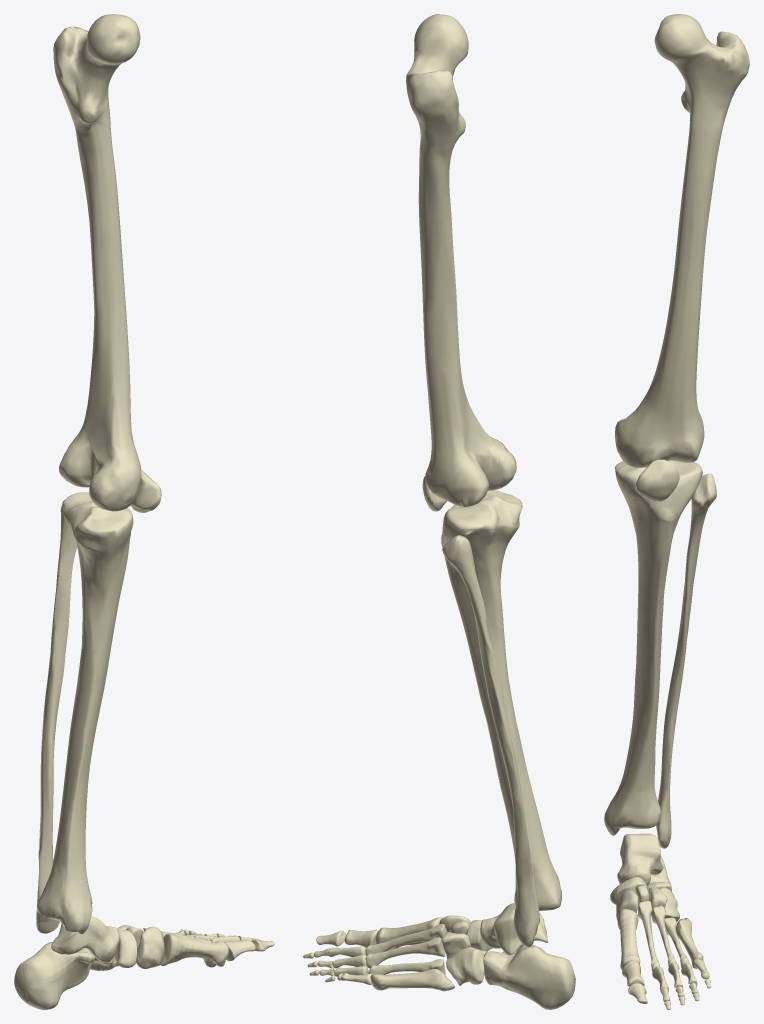
File: leg.glb
3 views of the same model, side by side, from view 1: azimuth 30°, elevation 25°; view 2: azimuth 150°, elevation 25°; view 3: azimuth 270°, elevation 25° (orthographic). The views are drawn at different scales.
Visible parts, largest first — view 1: 3DSMeshMatrix (×9); view 2: 3DSMeshMatrix (×11); view 3: 3DSMeshMatrix (×15).
Part boxes in pixels (x1,y1,x2,y2): 3DSMeshMatrix (×9): [14, 14, 228, 1009]; 3DSMeshMatrix (×11): [365, 14, 575, 1009]; 3DSMeshMatrix (×15): [604, 14, 749, 986].
Size of the model in its own units: 9.09 by 32.86 by 4.67.
1 material, 1 textured.
